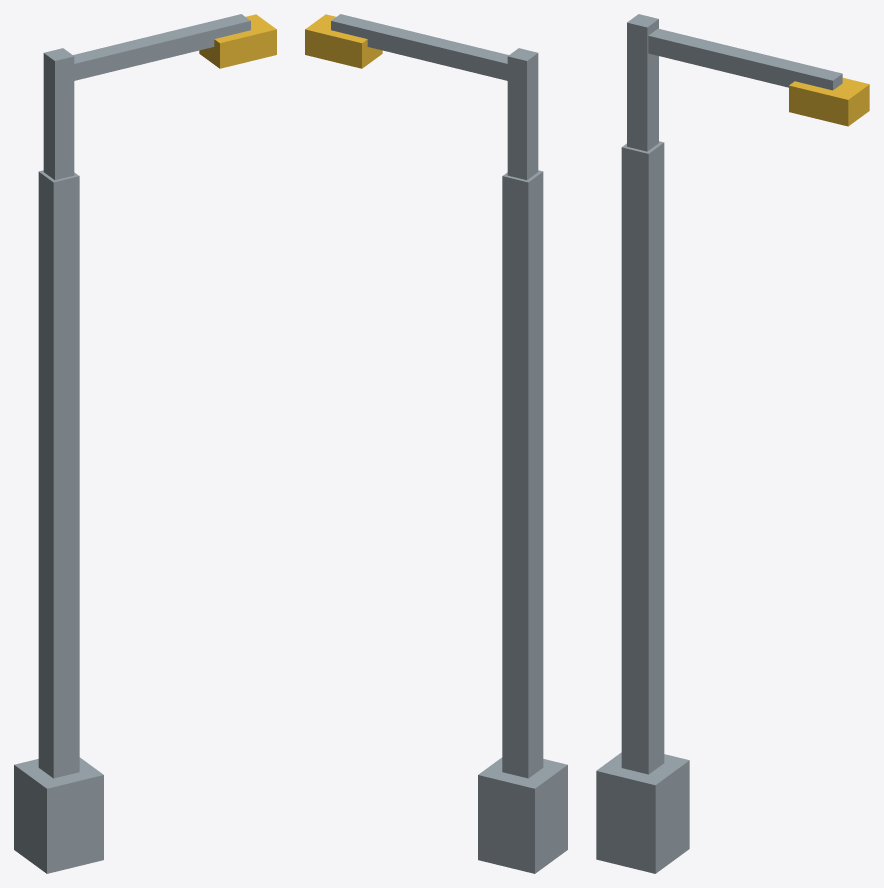
File: pole.gltf
The picture shows the model from 3 angles, left to right: view 1: azimuth 30°, elevation 25°; view 2: azimuth 150°, elevation 25°; view 3: azimuth 330°, elevation 25°; orthographic projection. The views are drawn at different scales.
Visible parts, largest first — view 1: pole; view 2: pole; view 3: pole.
Boxes of the visible parts, bbox=[...] form: pole: bbox=[14, 14, 276, 873]; pole: bbox=[305, 14, 567, 873]; pole: bbox=[596, 14, 869, 873].
Bounding box in the file's own units: 1.45 × 4.7 × 0.35.
1 material, 1 textured.
